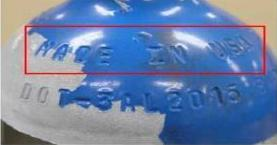cylinder: (1, 0, 277, 145)
